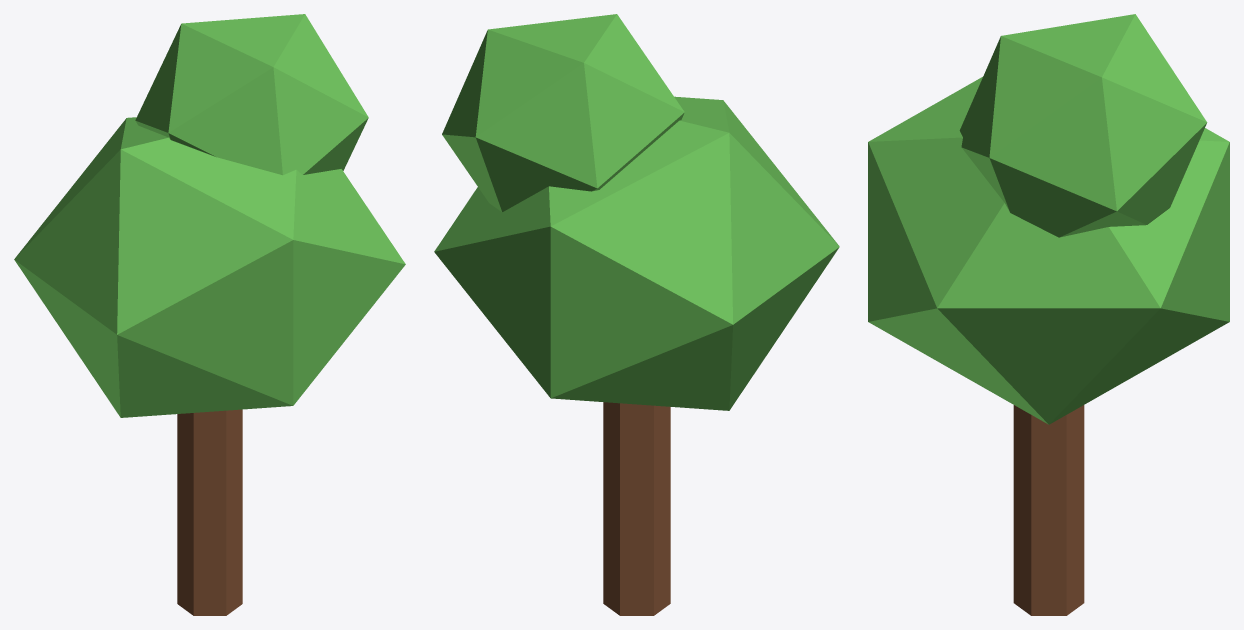
Rendered from tree.glb.
3 renders of one model, left to right at view 1: azimuth 30°, elevation 25°; view 2: azimuth 150°, elevation 25°; view 3: azimuth 270°, elevation 25°, orthographic. The views are drawn at different scales.
Parts seen in each view (by area): view 1: tree_1, tree_0; view 2: tree_1, tree_0; view 3: tree_1, tree_0.
Boxes of the visible parts, left/top/right/bottom form: tree_1: left=14, top=14, right=405, bottom=417; tree_0: left=177, top=409, right=242, bottom=615; tree_1: left=434, top=14, right=839, bottom=410; tree_0: left=603, top=402, right=670, bottom=615; tree_1: left=868, top=14, right=1229, bottom=424; tree_0: left=1013, top=405, right=1084, bottom=615.
Size of the model in its own units: 2.4 by 4.17 by 2.3.
